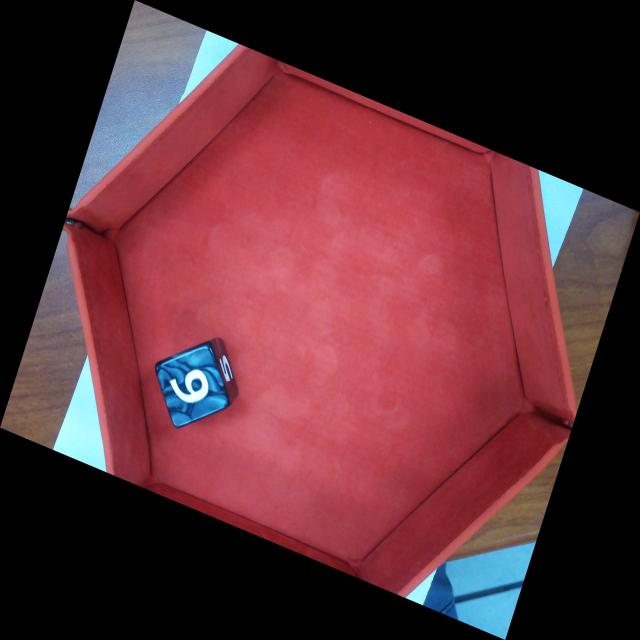dice: (151, 339, 235, 433)
